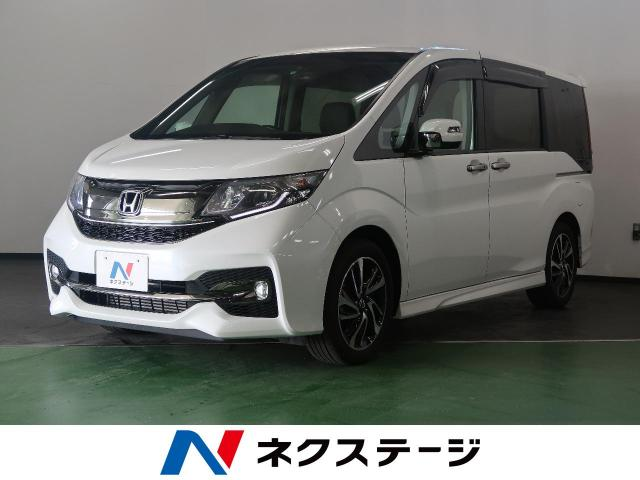van: (39, 42, 597, 366)
